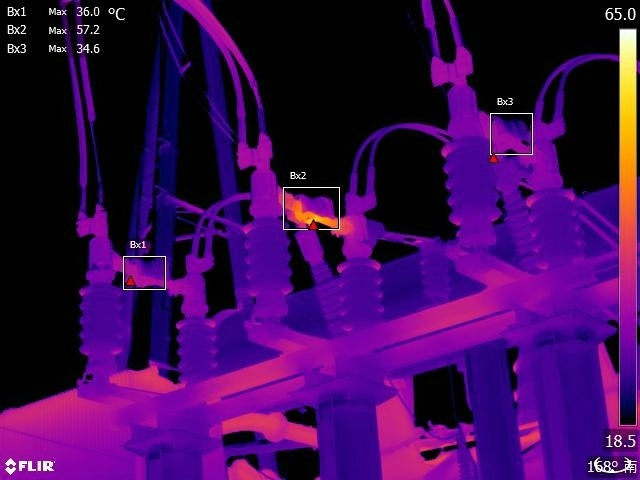post insulator: (432, 130, 510, 253), (240, 214, 295, 329), (75, 270, 126, 379), (521, 183, 582, 268), (335, 254, 393, 332), (168, 307, 226, 383), (416, 244, 455, 308)
switch: (243, 155, 388, 255), (75, 222, 216, 312), (445, 78, 561, 178)
tube: (291, 217, 350, 336), (493, 163, 544, 267)
